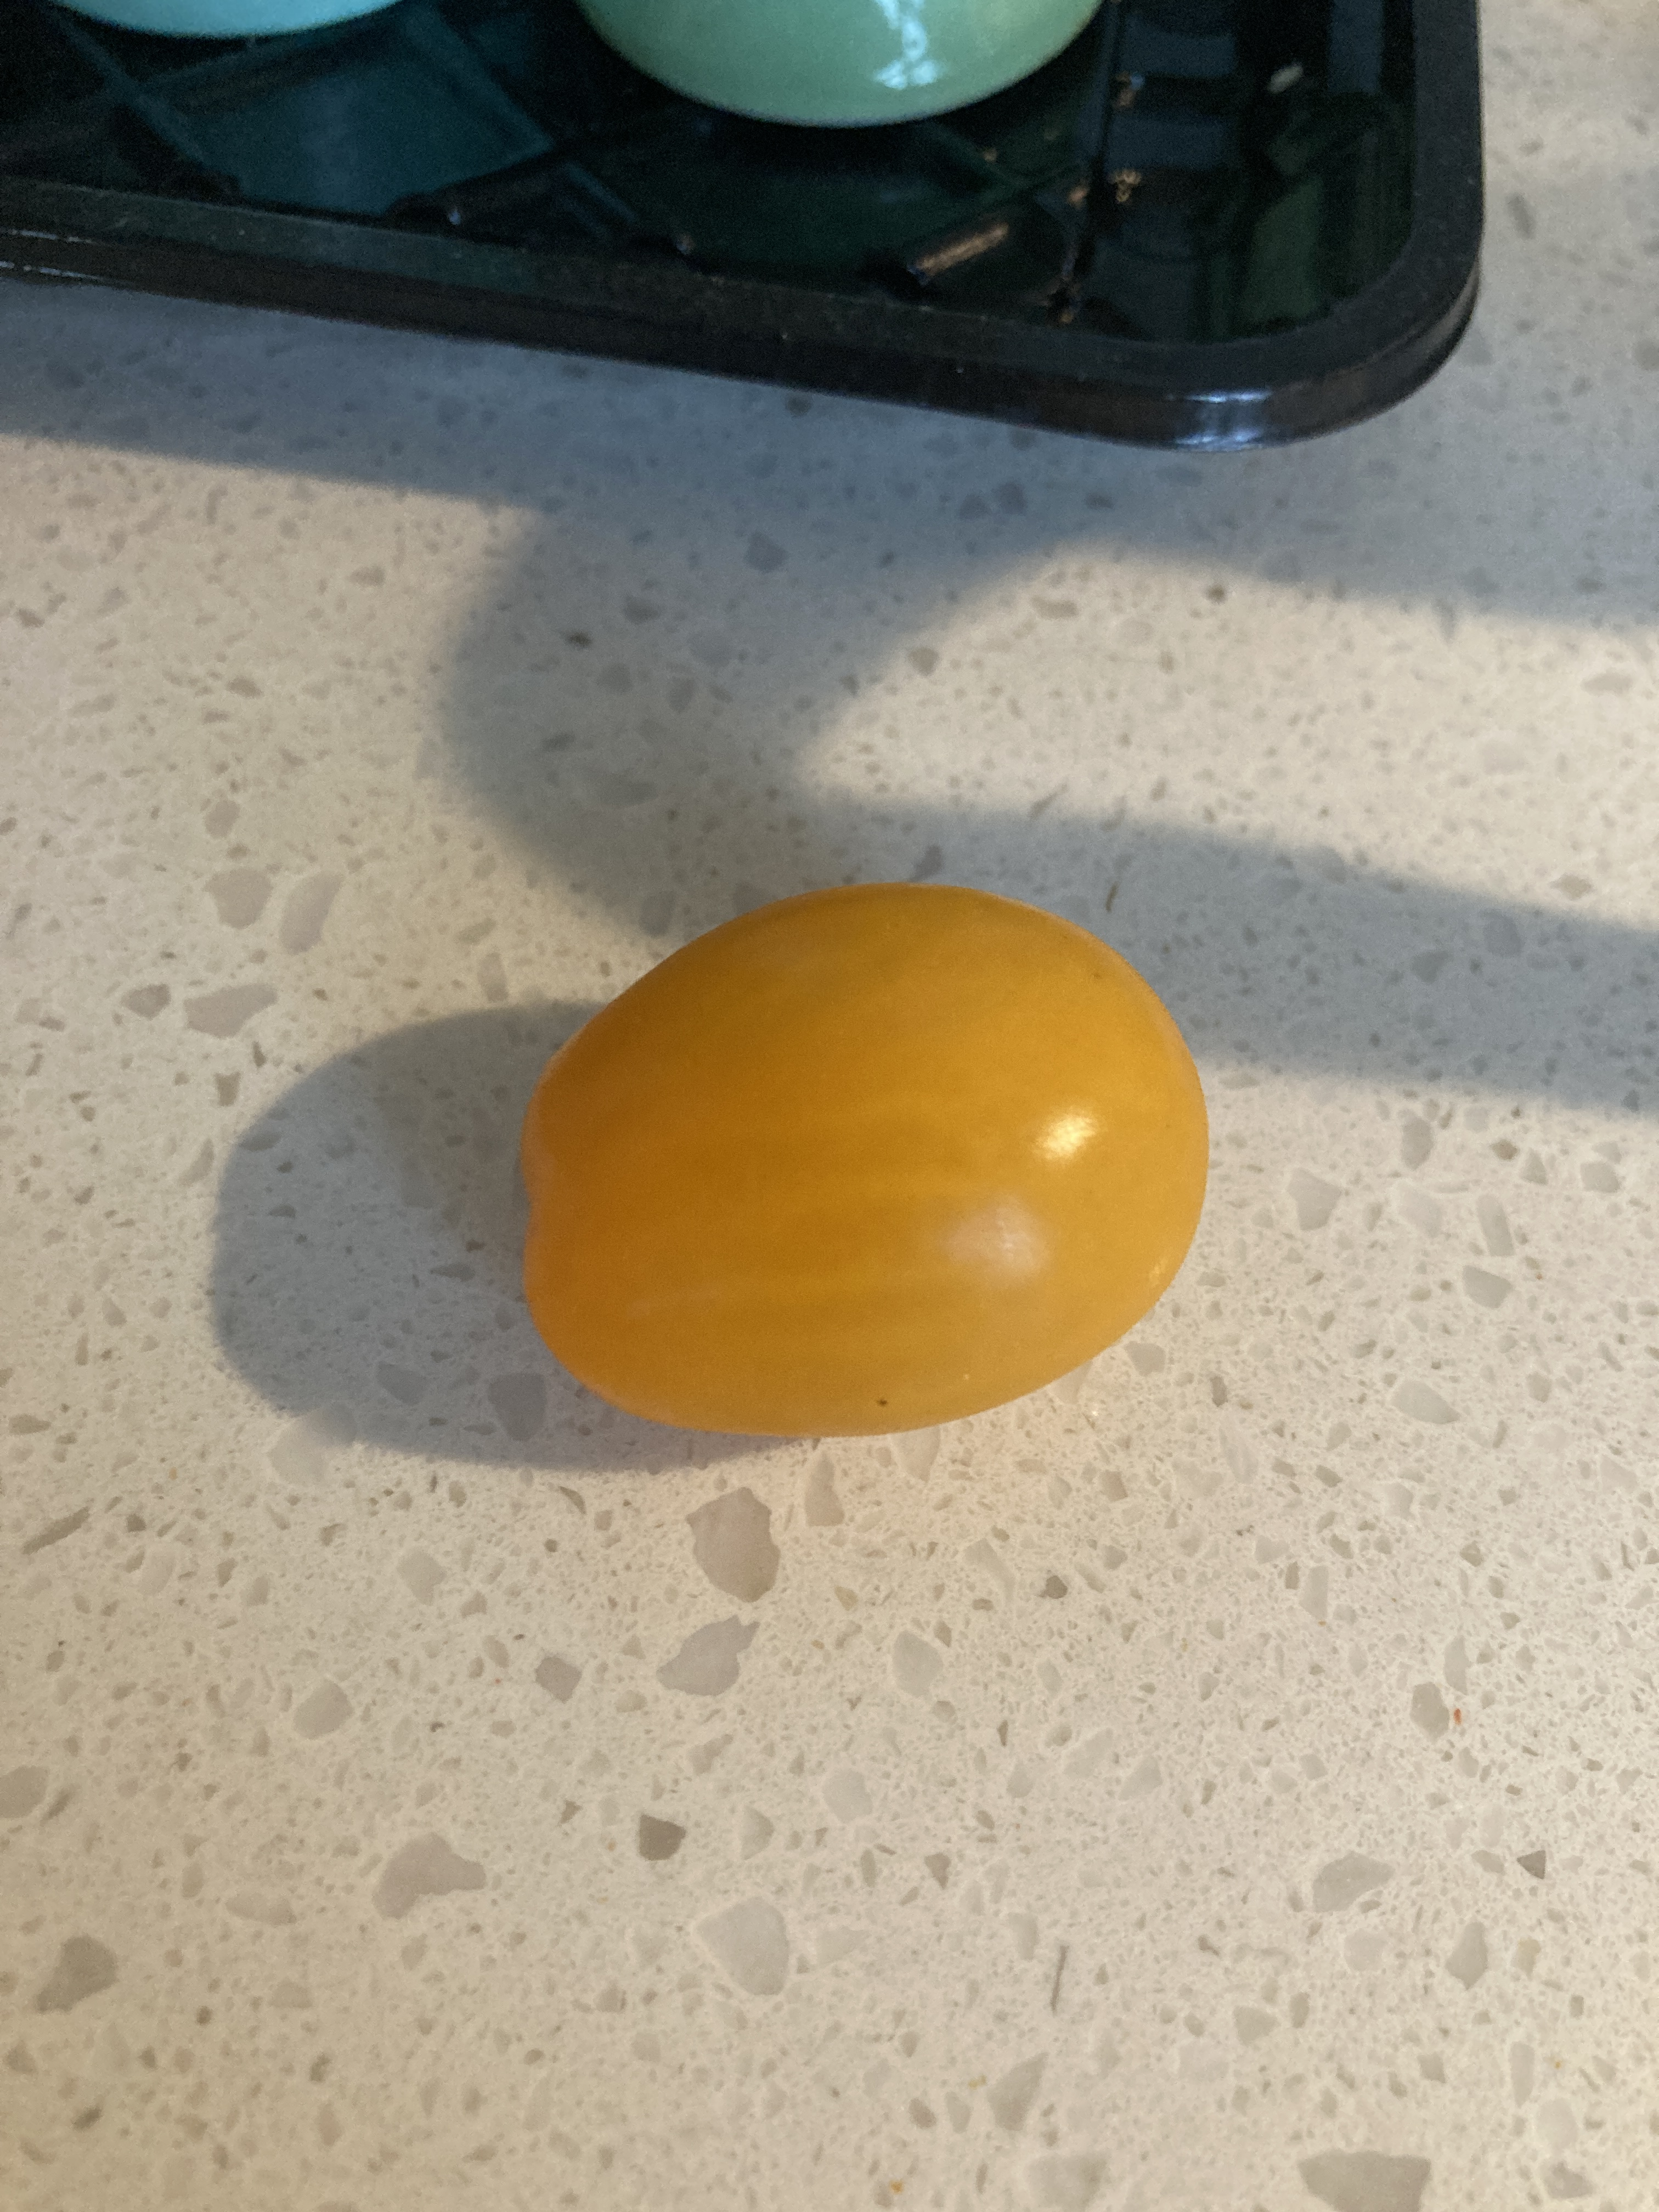healthy-tomato: (523, 876, 1209, 1444)
